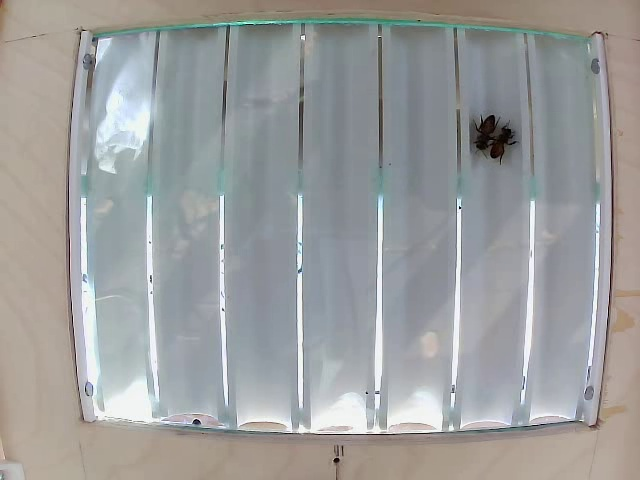bee: (462, 106, 495, 156), (489, 121, 518, 174)
